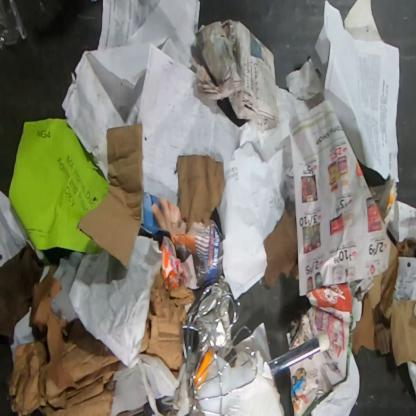cardboard: (6, 266, 123, 415), (76, 123, 143, 268), (349, 226, 415, 368), (139, 271, 198, 381)
metal: (180, 282, 260, 415), (267, 332, 332, 376)
rigid_plastic: (0, 0, 30, 54)
